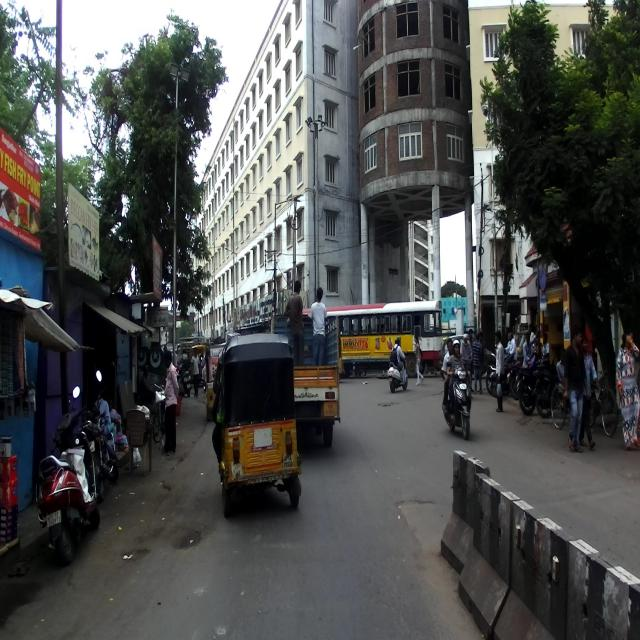autorickshaw: (210, 332, 302, 518)
motorcycle: (79, 368, 120, 501)
scooter: (34, 383, 101, 564), (442, 360, 472, 440), (385, 358, 410, 392)
truck: (266, 310, 342, 454)
